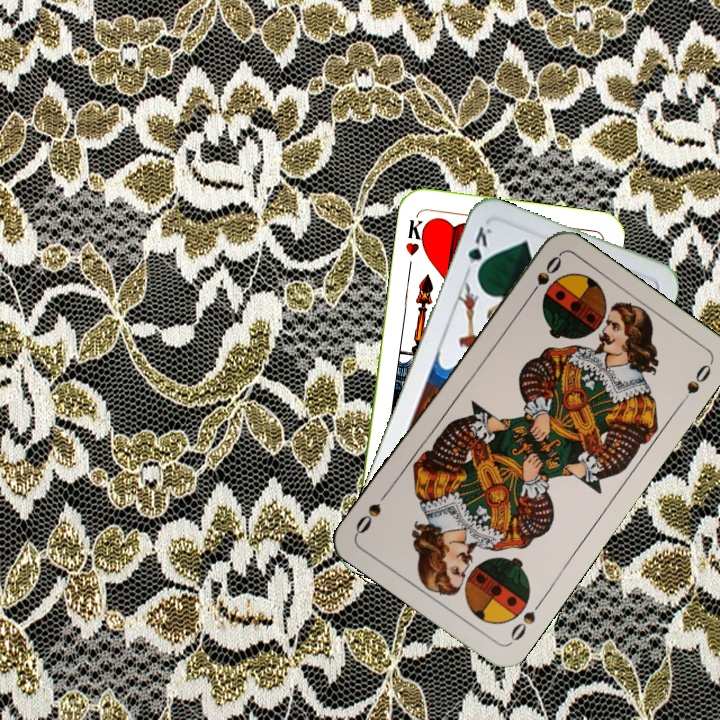GK: (461, 222, 495, 280)
HK: (401, 211, 431, 258)
SO: (523, 251, 565, 303), (505, 595, 546, 647)
